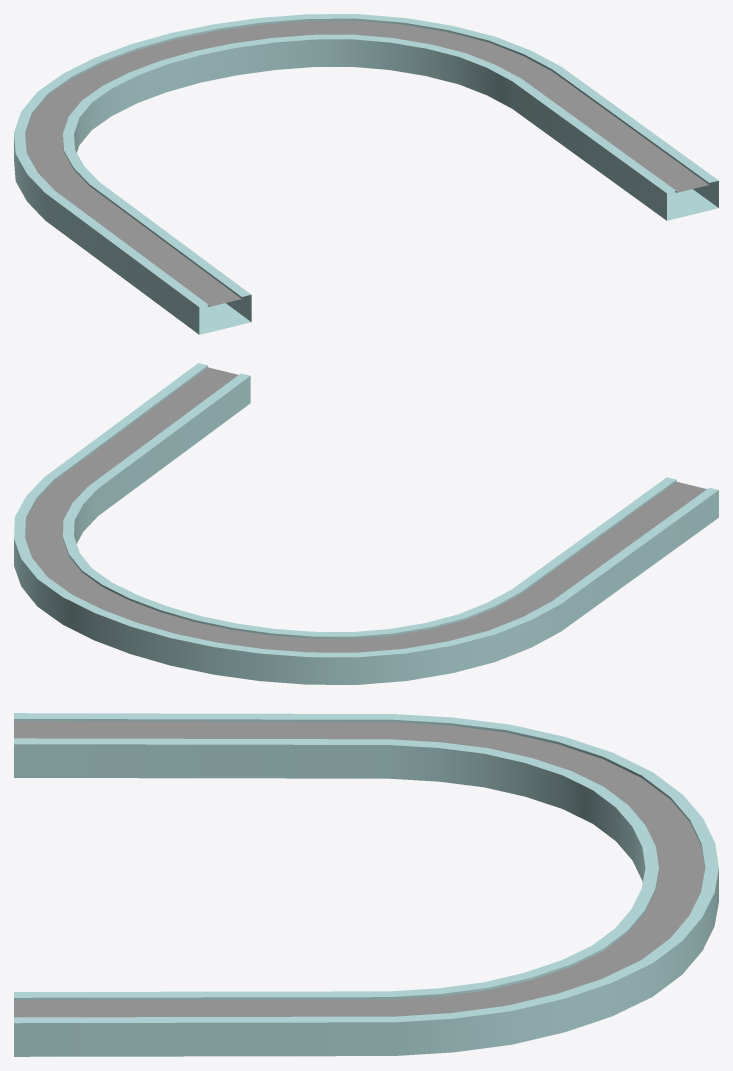
The model's file is U-turn.fbx.
3 views of the same model, one above another, from view 1: azimuth 30°, elevation 25°; view 2: azimuth 150°, elevation 25°; view 3: azimuth 270°, elevation 25° (orthographic). The views are drawn at different scales.
Parts seen in each view (by area): view 1: Cube.034; view 2: Cube.034; view 3: Cube.034.
Part boxes in pixels (x1,y1,x2,y2): Cube.034: (14,14,718,334); Cube.034: (14,363,718,684); Cube.034: (14,713,718,1056).
Bounding box in the file's own units: 2028 × 103 × 1949.
